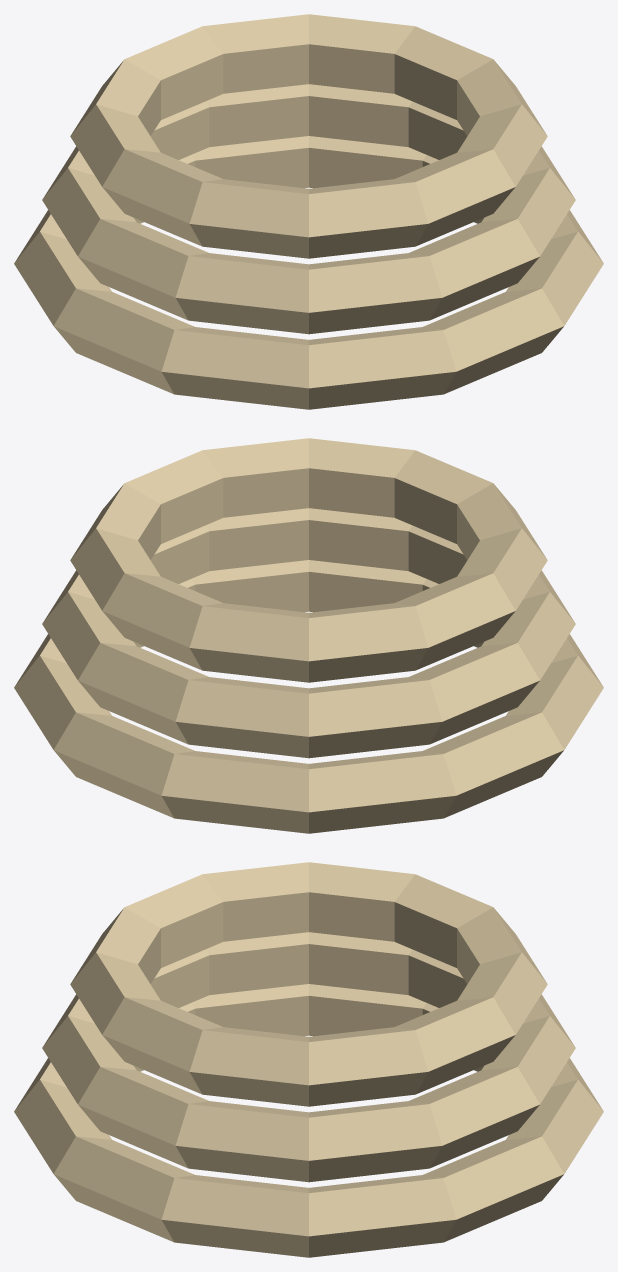
The model's file is item_rope.glb.
3 views of the same model, one above another, from view 1: azimuth 30°, elevation 25°; view 2: azimuth 150°, elevation 25°; view 3: azimuth 270°, elevation 25° (orthographic).
Visible parts, largest first — view 1: coil2, coil1, coil0; view 2: coil2, coil1, coil0; view 3: coil2, coil1, coil0.
Part boxes in pixels (bbox=[...]): coil2: bbox=[70, 14, 547, 258]; coil1: bbox=[42, 84, 575, 334]; coil0: bbox=[14, 136, 603, 409]; coil2: bbox=[70, 438, 547, 682]; coil1: bbox=[42, 508, 575, 758]; coil0: bbox=[14, 560, 603, 833]; coil2: bbox=[70, 862, 547, 1106]; coil1: bbox=[42, 932, 575, 1182]; coil0: bbox=[14, 984, 603, 1257].
Size of the model in its own units: 0.252 by 0.0904 by 0.252.
